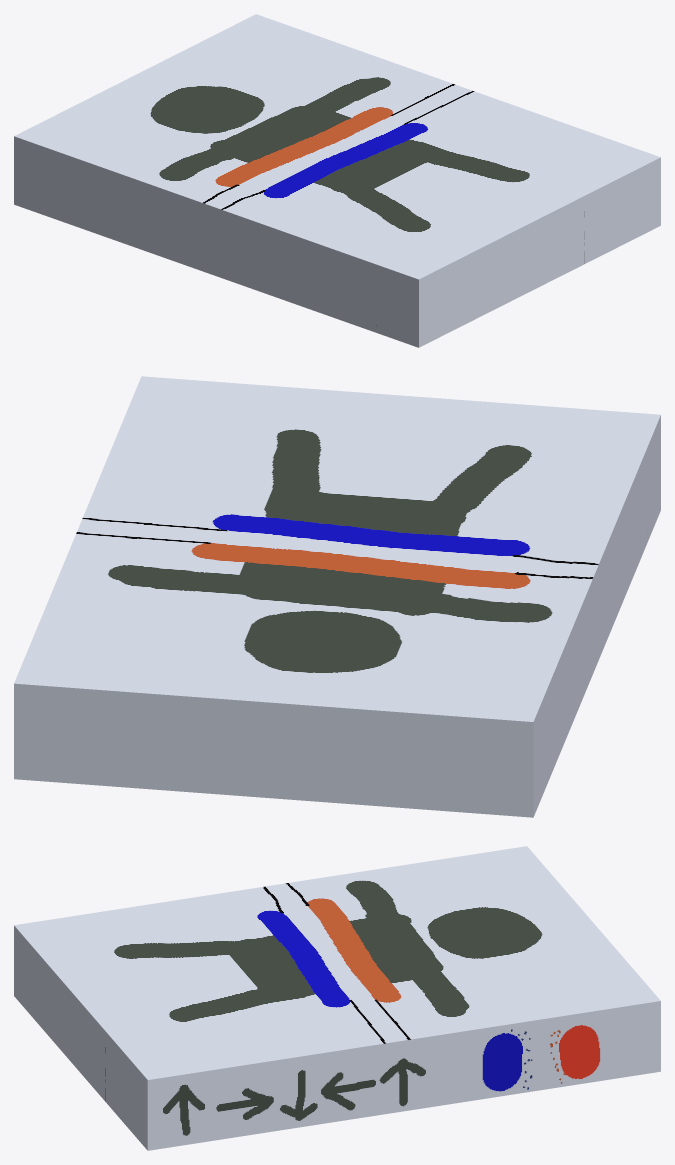
The model's file is gateway_game.fbx.
3 renders of one model, top to bottom at view 1: azimuth 30°, elevation 25°; view 2: azimuth 150°, elevation 25°; view 3: azimuth 270°, elevation 25°, orthographic. The views are drawn at different scales.
Visible parts, largest first — view 1: GatewayGame; view 2: GatewayGame; view 3: GatewayGame.
Boxes of the visible parts, x1,y1,x2,y2 form: GatewayGame: (14,14,660,347); GatewayGame: (14,376,660,817); GatewayGame: (14,846,660,1150).
Size of the model in its own units: 70.98 by 10 by 82.9.
Materials: 1 (1 with a texture image).
